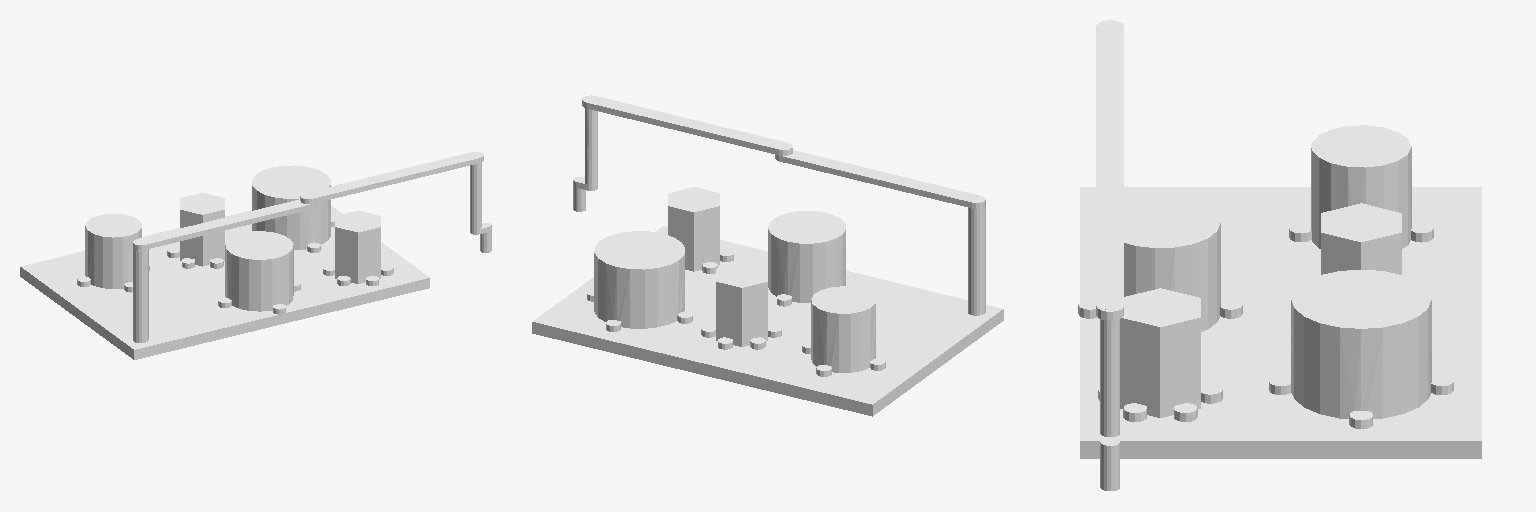
URDF robot description (smmg):
<?xml version="1.0" encoding="utf-8"?>
<!-- This URDF was automatically created by SolidWorks to URDF Exporter! Originally created by Stephen Brawner (brawner@gmail.com) 
     Commit Version: 1.6.0-4-g7f85cfe  Build Version: 1.6.7995.38578
     For more information, please see http://wiki.ros.org/sw_urdf_exporter -->
<robot
  name="smmg">
  <link
    name="base_link">
    <inertial>
      <origin
        xyz="0.161579482014634 0.10046496179503 0.0199868632169396"
        rpy="0 0 0" />
      <mass
        value="1.19744095453115" />
      <inertia
        ixx="0.00388413731323567"
        ixy="0.000129091883404609"
        ixz="-0.000234198751601833"
        iyy="0.00791467765674646"
        iyz="-2.63038287894478E-05"
        izz="0.0110014173676073" />
    </inertial>
    <visual>
      <origin
        xyz="0 0 0"
        rpy="0 0 0" />
      <geometry>
        <mesh
          filename="package://smmg/meshes/base_link.STL" />
      </geometry>
      <material
        name="">
        <color
          rgba="1 1 1 1" />
      </material>
    </visual>
    <collision>
      <origin
        xyz="0 0 0"
        rpy="0 0 0" />
      <geometry>
        <mesh
          filename="package://smmg/meshes/base_link.STL" />
      </geometry>
    </collision>
  </link>
  <link
    name="l1">
    <inertial>
      <origin
        xyz="0.090269177291178 -1.73472347597681E-18 0.0026549758026817"
        rpy="0 0 0" />
      <mass
        value="0.0126696902001295" />
      <inertia
        ixx="2.39703742300665E-07"
        ixy="-4.65141434172701E-24"
        ixz="-1.56551104304191E-07"
        iyy="3.43024845873656E-05"
        iyz="-6.49858072135899E-24"
        izz="3.44703715883014E-05" />
    </inertial>
    <visual>
      <origin
        xyz="0 0 0"
        rpy="0 0 0" />
      <geometry>
        <mesh
          filename="package://smmg/meshes/l1.STL" />
      </geometry>
      <material
        name="">
        <color
          rgba="1 1 1 1" />
      </material>
    </visual>
    <collision>
      <origin
        xyz="0 0 0"
        rpy="0 0 0" />
      <geometry>
        <mesh
          filename="package://smmg/meshes/l1.STL" />
      </geometry>
    </collision>
  </link>
  <joint
    name="l1"
    type="revolute">
    <origin
      xyz="0.015 0.015 0.1"
      rpy="0 0 0" />
    <parent
      link="base_link" />
    <child
      link="l1" />
    <axis
      xyz="0 0 1" />
    <limit
      lower="0"
      upper="3.14"
      effort="0"
      velocity="0" />
  </joint>
  <link
    name="l2">
    <inertial>
      <origin
        xyz="0.085 1.73472347597681E-18 -0.00249999999999997"
        rpy="0 0 0" />
      <mass
        value="0.0118842920367321" />
      <inertia
        ixx="2.23645574840211E-07"
        ixy="-1.57683096241192E-39"
        ixz="4.42403764280444E-23"
        iyy="2.89636888735626E-05"
        iyz="-9.29446100116021E-24"
        izz="2.91378165649165E-05" />
    </inertial>
    <visual>
      <origin
        xyz="0 0 0"
        rpy="0 0 0" />
      <geometry>
        <mesh
          filename="package://smmg/meshes/l2.STL" />
      </geometry>
      <material
        name="">
        <color
          rgba="1 1 1 1" />
      </material>
    </visual>
    <collision>
      <origin
        xyz="0 0 0"
        rpy="0 0 0" />
      <geometry>
        <mesh
          filename="package://smmg/meshes/l2.STL" />
      </geometry>
    </collision>
  </link>
  <joint
    name="l2"
    type="continuous">
    <origin
      xyz="0.17 0 0.01"
      rpy="0 0 0" />
    <parent
      link="l1" />
    <child
      link="l2" />
    <axis
      xyz="0 0 1" />
  </joint>
  <link
    name="l3">
    <inertial>
      <origin
        xyz="0.00253369460812275 -2.60208521396521E-17 -0.0490700987771658"
        rpy="0 0 0" />
      <mass
        value="0.00796128255227576" />
      <inertia
        ixx="5.95622136742788E-06"
        ixy="-3.62047881425816E-22"
        ixz="6.68964825158897E-07"
        iyy="6.10266097143917E-06"
        iyz="3.17261975949009E-21"
        izz="2.48038969248068E-07" />
    </inertial>
    <visual>
      <origin
        xyz="0 0 0"
        rpy="0 0 0" />
      <geometry>
        <mesh
          filename="package://smmg/meshes/l3.STL" />
      </geometry>
      <material
        name="">
        <color
          rgba="1 1 1 1" />
      </material>
    </visual>
    <collision>
      <origin
        xyz="0 0 0"
        rpy="0 0 0" />
      <geometry>
        <mesh
          filename="package://smmg/meshes/l3.STL" />
      </geometry>
    </collision>
  </link>
  <joint
    name="l3"
    type="continuous">
    <origin
      xyz="0.17 0 0"
      rpy="0 0 0" />
    <parent
      link="l2" />
    <child
      link="l3" />
    <axis
      xyz="0 0 -1" />
  </joint>
  <link
    name="l4">
    <inertial>
      <origin
        xyz="-0.2016845912891 -0.0832056001858059 -0.0069490226065791"
        rpy="0 0 0" />
      <mass
        value="1.22995621932029" />
      <inertia
        ixx="0.00443441587627585"
        ixy="-0.000121076289217031"
        ixz="0.000271087920991851"
        iyy="0.00898873026327204"
        iyz="0.000218852456764692"
        izz="0.0122050542928664" />
    </inertial>
    <visual>
      <origin
        xyz="0 0 0"
        rpy="0 0 0" />
      <geometry>
        <mesh
          filename="package://smmg/meshes/l4.STL" />
      </geometry>
      <material
        name="">
        <color
          rgba="1 1 1 1" />
      </material>
    </visual>
    <collision>
      <origin
        xyz="0 0 0"
        rpy="0 0 0" />
      <geometry>
        <mesh
          filename="package://smmg/meshes/l4.STL" />
      </geometry>
    </collision>
  </link>
  <joint
    name="l4_joint"
    type="fixed">
    <origin
      xyz="0.0100000000000001 0 -0.095"
      rpy="-3.14159265358979 0 0" />
    <parent
      link="l3" />
    <child
      link="l4" />
    <axis
      xyz="0 0 0" />
  </joint>
</robot>

--- What the picture shows (computed from the rendered views, not written in the file) ---
The picture shows the robot from 3 angles, left to right: view 1: azimuth 30°, elevation 25°; view 2: azimuth 150°, elevation 25°; view 3: azimuth 270°, elevation 25°; orthographic projection.
Robot: smmg — 5 links, 4 joints (1 revolute, 2 continuous, 1 fixed); root link base_link; default pose: all joints at 0.
Visible links, largest first — view 1: base_link, l2, l1, l3; view 2: base_link, l2, l1, l3; view 3: base_link, l2, l1, l3.
Boxes of the visible links, <box> form: base_link: <box>20,165,429,359</box>; l2: <box>300,152,483,203</box>; l1: <box>133,194,315,250</box>; l3: <box>470,153,491,252</box>; base_link: <box>532,187,1003,416</box>; l2: <box>582,95,792,155</box>; l1: <box>775,144,985,208</box>; l3: <box>573,97,597,211</box>; base_link: <box>1078,22,1481,458</box>; l2: <box>1096,156,1123,320</box>; l1: <box>1096,20,1123,165</box>; l3: <box>1100,302,1119,490</box>.
Size in the robot's own frame: 0.37 by 0.201 by 0.11 metres.
Meshes: 5 distinct files referenced, 4 mesh visuals loaded (4 binary STL); not drawn: 1 (reference not matched to a file when rendering).
